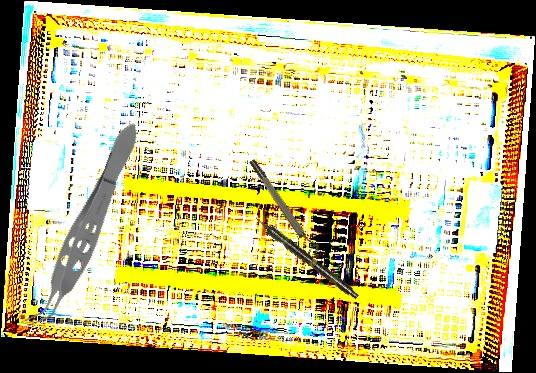Fixation Ring: (247, 155, 322, 258)
Handpiece: (252, 213, 361, 302)
Tissue Forceps: (18, 115, 151, 341)
